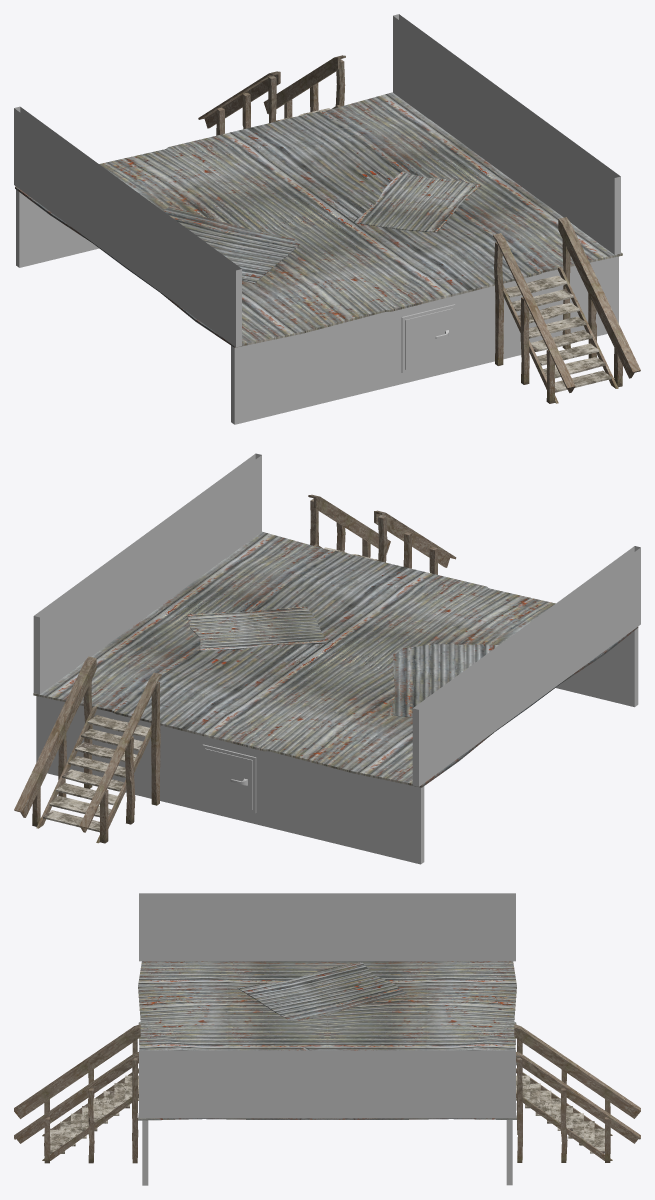
The model's file is Overcast_Low.fbx.
The picture shows the model from 3 angles, top to bottom: view 1: azimuth 30°, elevation 25°; view 2: azimuth 150°, elevation 25°; view 3: azimuth 270°, elevation 25°; orthographic projection. The views are drawn at different scales.
Parts seen in each view (by area): view 1: OverCast_Low, ManDoor_B; view 2: OverCast_Low, ManDoor_A; view 3: OverCast_Low.
Part boxes in pixels (x1,y1,x2,y2): OverCast_Low: (14, 14, 640, 424); ManDoor_B: (405, 308, 452, 369); OverCast_Low: (14, 453, 640, 864); ManDoor_A: (205, 748, 252, 809); OverCast_Low: (14, 893, 640, 1185).
Bounding box in the file's own units: 755 × 290 × 1243.
